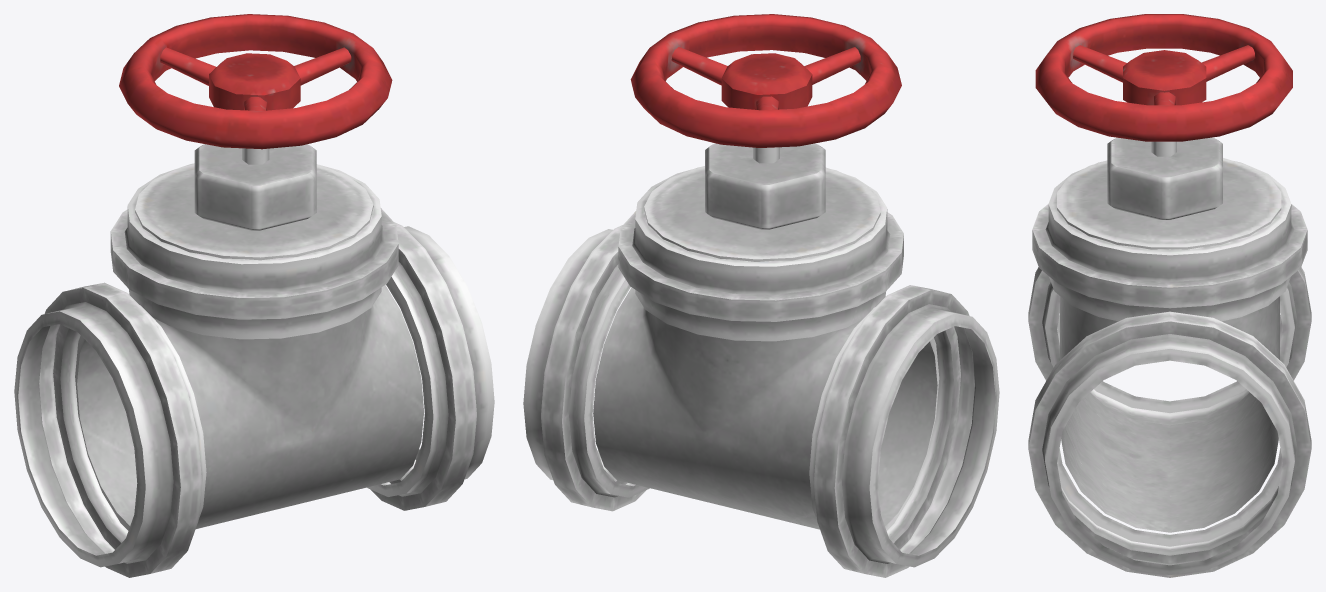
File: SM_Pipes_03k.glb
3 renders of one model, left to right at view 1: azimuth 30°, elevation 25°; view 2: azimuth 150°, elevation 25°; view 3: azimuth 270°, elevation 25°, orthographic. The views are drawn at different scales.
Visible parts, largest first — view 1: SM_Pipes_03k; view 2: SM_Pipes_03k; view 3: SM_Pipes_03k.
Boxes of the visible parts, x1=… form: SM_Pipes_03k: x1=14, y1=14, x2=494, y2=577; SM_Pipes_03k: x1=523, y1=14, x2=999, y2=577; SM_Pipes_03k: x1=1028, y1=14, x2=1311, y2=577.
Bounding box in the file's own units: 0.2501 × 0.3182 × 0.1822.
1 material, 1 textured.
